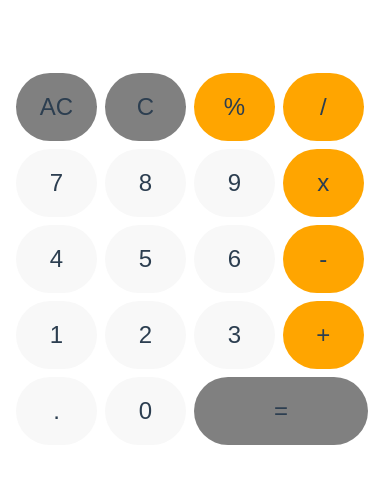
Test case: Calculator › check subtract functionality
Note:  click 8
Click the button "8" at (146, 183), box [105, 149, 186, 217]
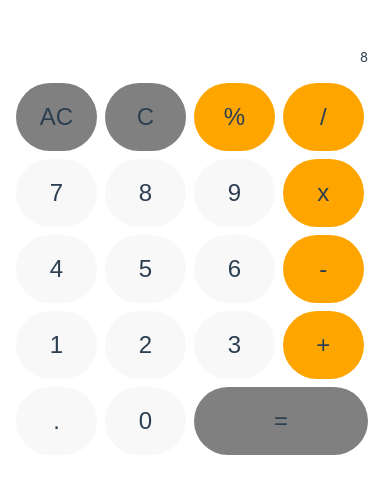
Note:  click -
Click the button "-" at (323, 269), box [283, 235, 364, 303]
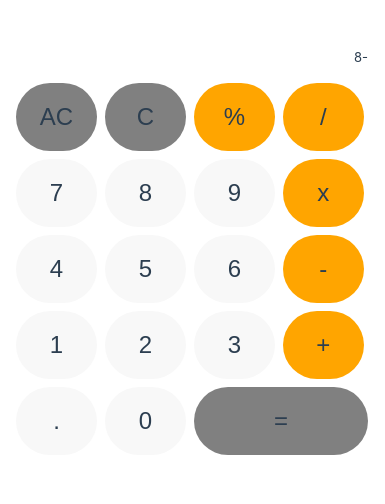
Note:  click 7
Click the button "7" at (56, 193), box [16, 159, 97, 227]
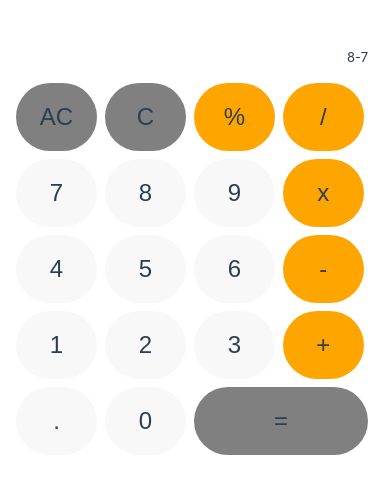
Click the button "=" at (281, 421), box [194, 387, 368, 455]
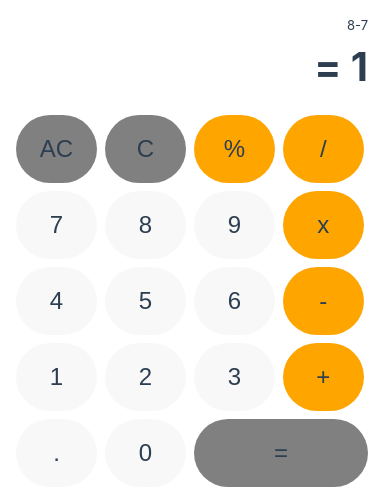
Result: the text with id "expr" reads "8-7" at [347, 17, 368, 33]
Result: the text with id "result" reads "= 1" at [314, 42, 368, 91]
